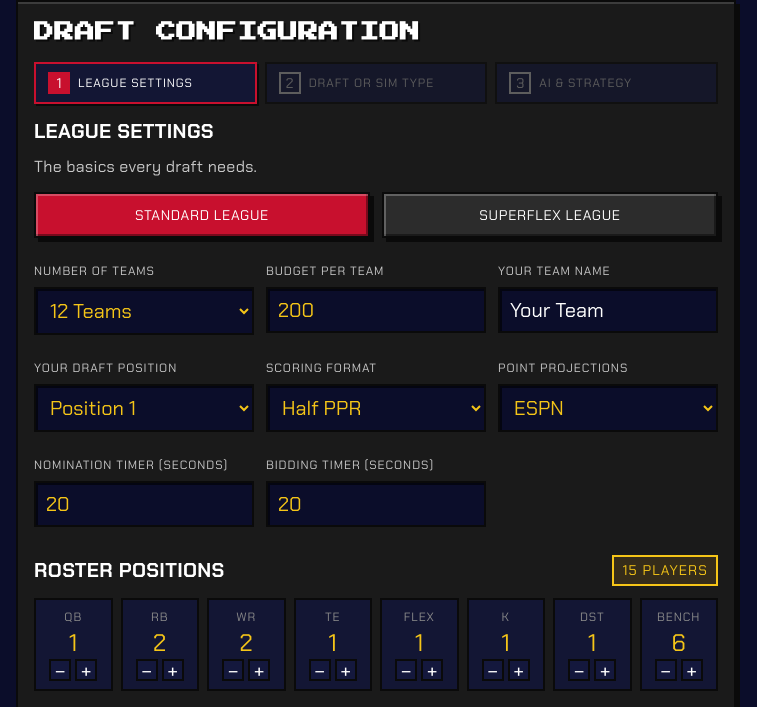
SetupScreen wizard › Back navigation preserves entered league values
Replace the text in the field with placeholder "Enter your team name" with "Gridiron Gang": (608, 310) [498, 287, 718, 333]
(page scrolled)
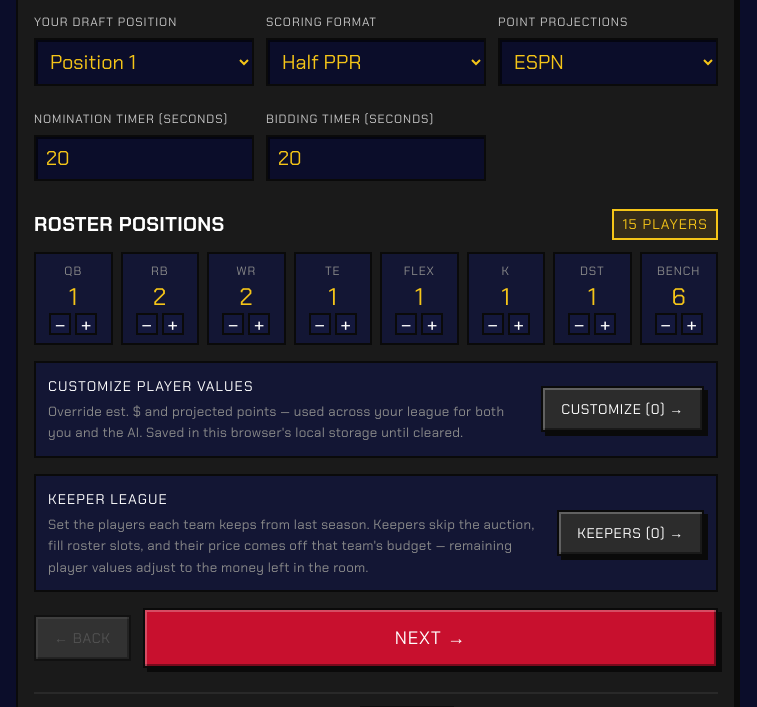
Click the button "Next →": (430, 638) [143, 608, 718, 668]
(page scrolled)
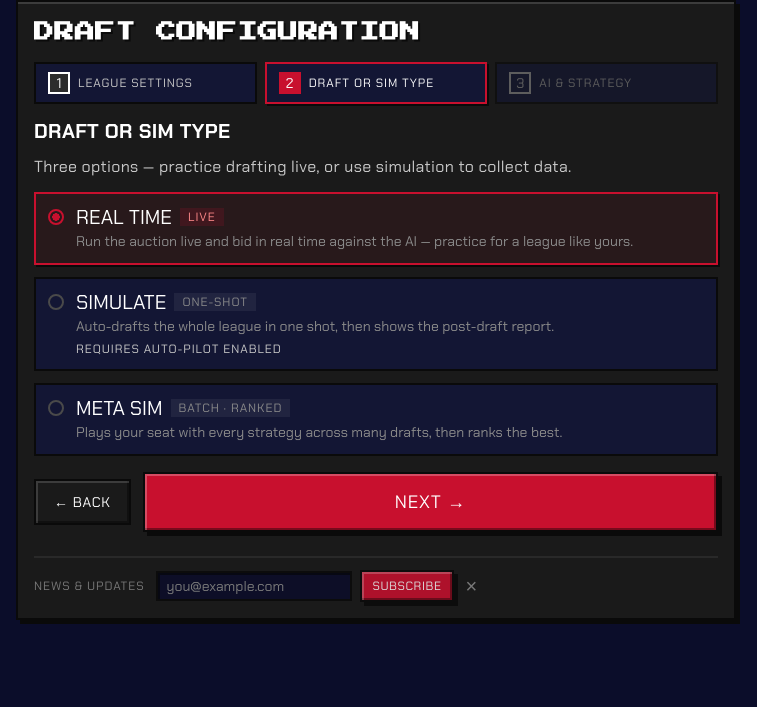
Click the button "← Back": (82, 502) [34, 479, 131, 525]
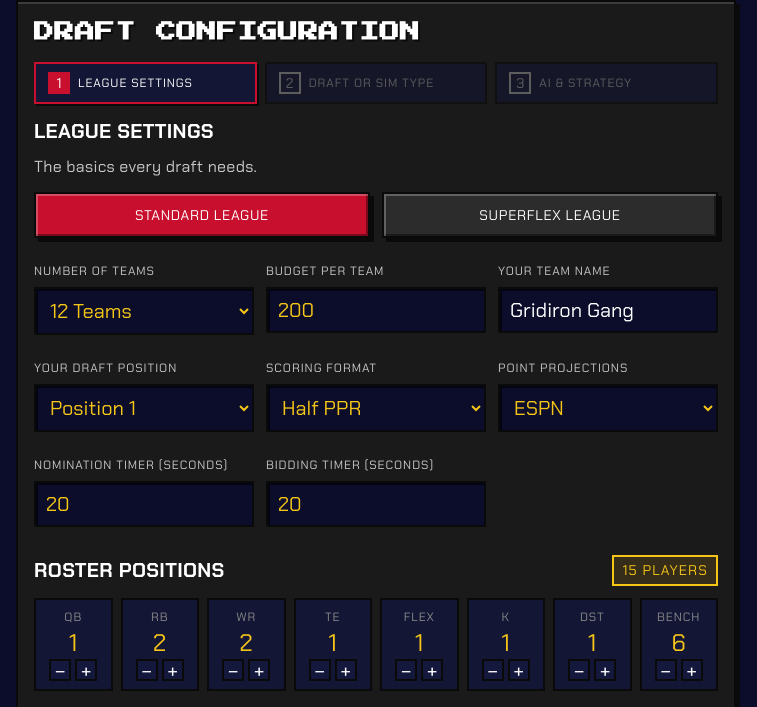
Expected: the field with placeholder "Enter your team name" holds "Gridiron Gang", [498, 287, 718, 333]
